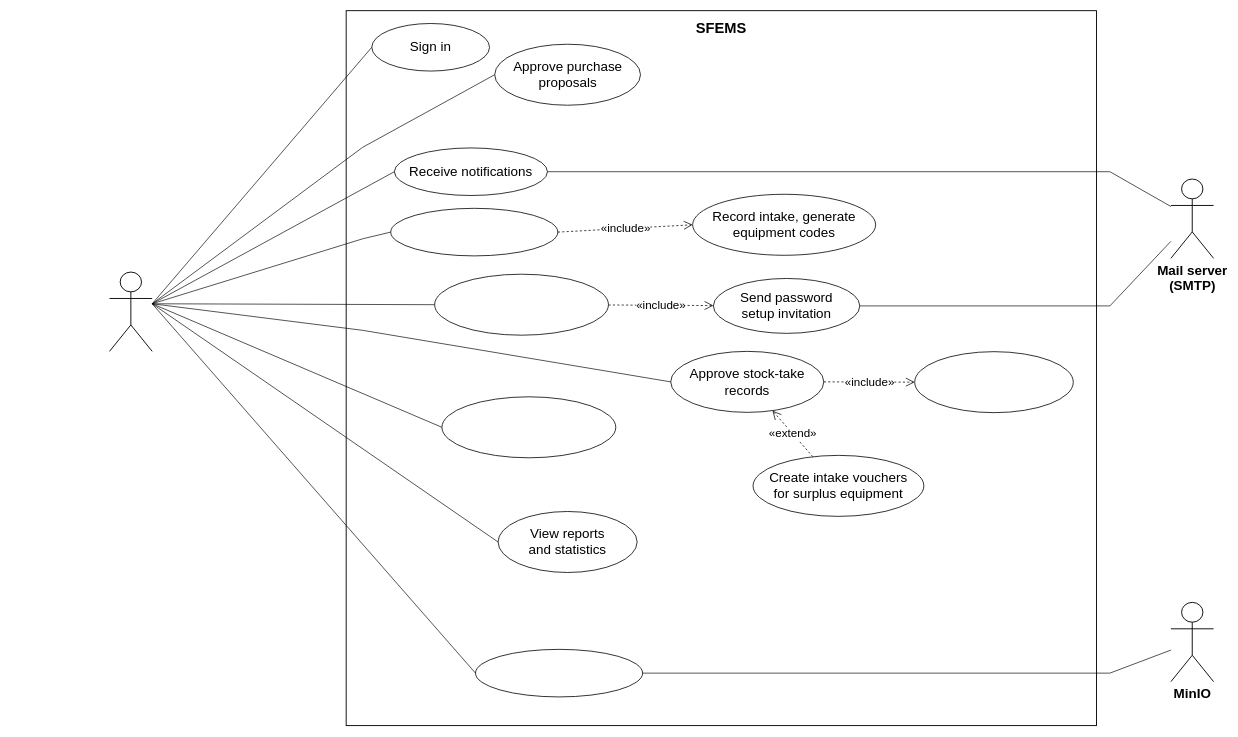
Some shapes in this 1238 by 737 pixel diagram are drawn without their labels. Each missing label, with the centre of its shape:
Approve intake vouchers: (x=474, y=232)
Give accounts to staff: (x=521, y=304)
Manage equipment: (x=559, y=673)
Manage facilities and staff: (x=528, y=427)
School Leader: (x=130, y=311)
Update equipment condition: (x=993, y=382)
